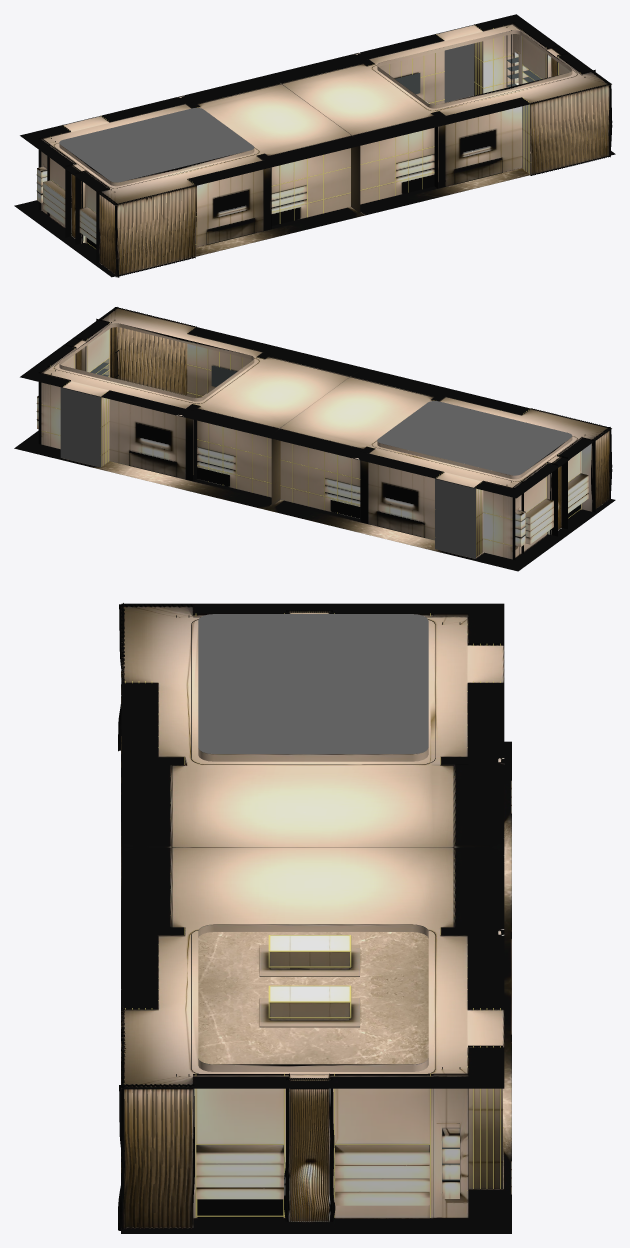
Rendered from luxc.glb.
3 views of the same model, one above another, from view 1: azimuth 30°, elevation 25°; view 2: azimuth 150°, elevation 25°; view 3: azimuth 270°, elevation 25° (orthographic). The views are drawn at different scales.
Visible parts, largest first — view 1: polySurface235.001, polySurface235.002; view 2: polySurface235.001, polySurface235.002; view 3: polySurface235.001, polySurface235.002.
Boxes of the visible parts, x1,y1,x2,y2 form: polySurface235.001: [14, 14, 615, 277]; polySurface235.002: [59, 25, 474, 182]; polySurface235.001: [14, 307, 615, 571]; polySurface235.002: [60, 387, 572, 558]; polySurface235.001: [118, 603, 511, 1233]; polySurface235.002: [198, 614, 428, 753].
Size of the model in its own units: 0.8105 by 0.1164 by 0.274.
Materials: 6 (6 with a texture image).
